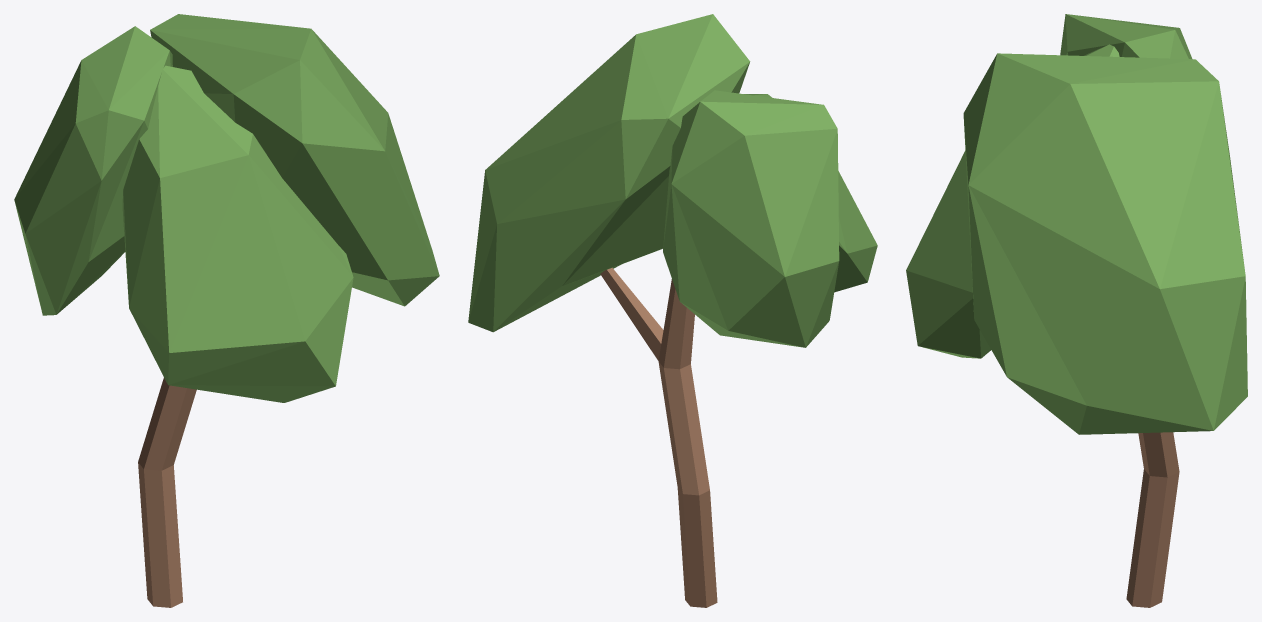
The model's file is tree7.fbx.
3 views of the same model, side by side, from view 1: azimuth 30°, elevation 25°; view 2: azimuth 150°, elevation 25°; view 3: azimuth 270°, elevation 25° (orthographic). The views are drawn at different scales.
Visible parts, largest first — view 1: tree7; view 2: tree7; view 3: tree7.
Part boxes in pixels (bbox=[...]): tree7: bbox=[14, 14, 439, 607]; tree7: bbox=[468, 14, 877, 607]; tree7: bbox=[906, 14, 1247, 607].
Bounding box in the file's own units: 122 × 176 × 94.58.
